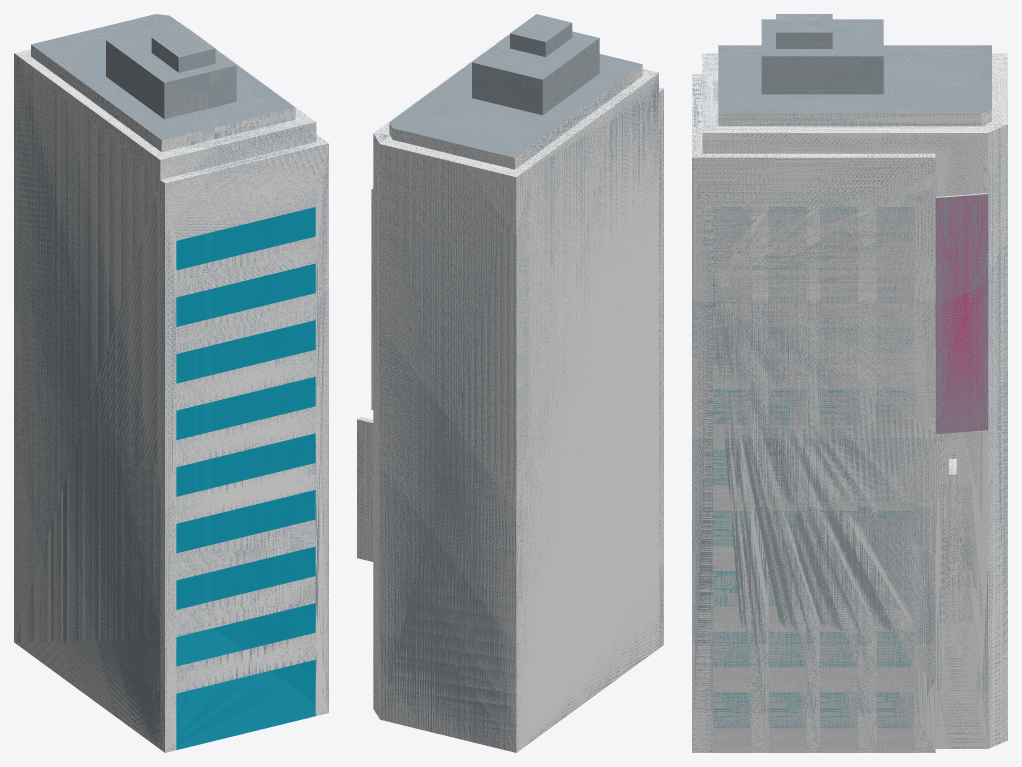
Rendered from Building3.fbx.
The picture shows the model from 3 angles, left to right: view 1: azimuth 30°, elevation 25°; view 2: azimuth 150°, elevation 25°; view 3: azimuth 270°, elevation 25°; orthographic projection. The views are drawn at different scales.
Parts seen in each view (by area): view 1: Group1; view 2: Group1; view 3: Group1.
Part boxes in pixels (left/top/right/bottom): Group1: left=14, top=14, right=328, bottom=752; Group1: left=357, top=14, right=663, bottom=752; Group1: left=692, top=14, right=1007, bottom=752.
Size of the model in its own units: 2554 by 8498 by 3562.
